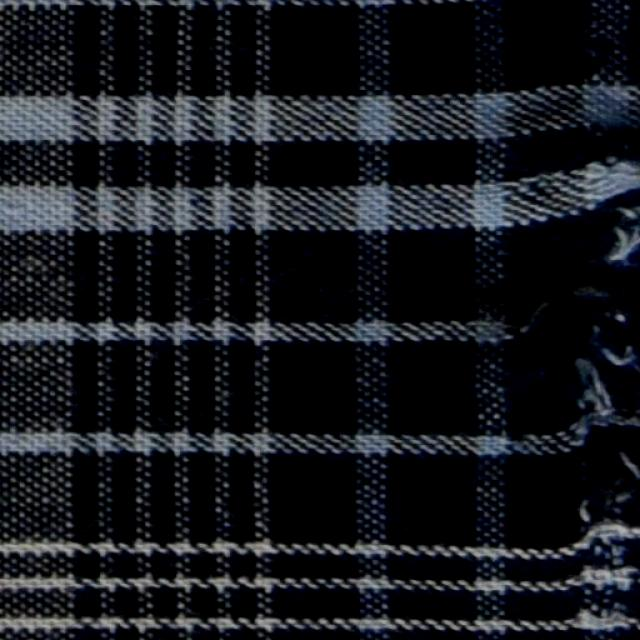Snag: (498, 188, 639, 640)
